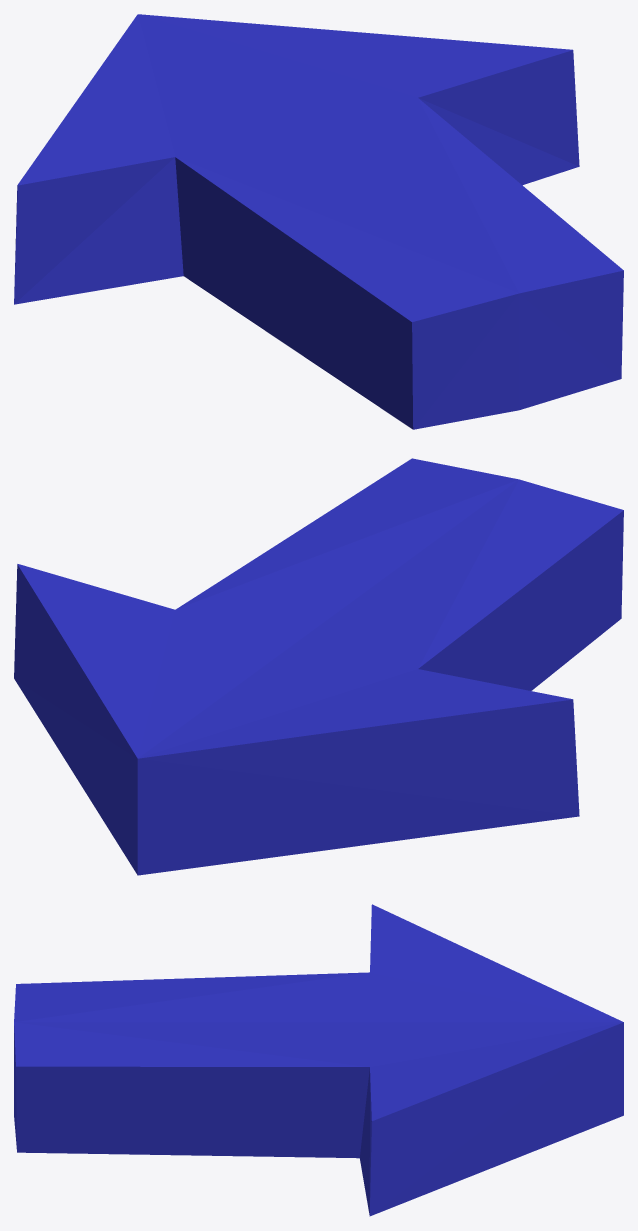
Rendered from yajirusi.dae.
The picture shows the model from 3 angles, top to bottom: view 1: azimuth 30°, elevation 25°; view 2: azimuth 150°, elevation 25°; view 3: azimuth 270°, elevation 25°; orthographic projection. The views are drawn at different scales.
Visible parts, largest first — view 1: ___; view 2: ___; view 3: ___.
Part boxes in pixels (x1=…): ___: x1=14, y1=14, x2=623, y2=429; ___: x1=14, y1=458, x2=623, y2=875; ___: x1=14, y1=904, x2=623, y2=1216.
Size of the model in its own units: 3.91 by 0.8505 by 4.57.
